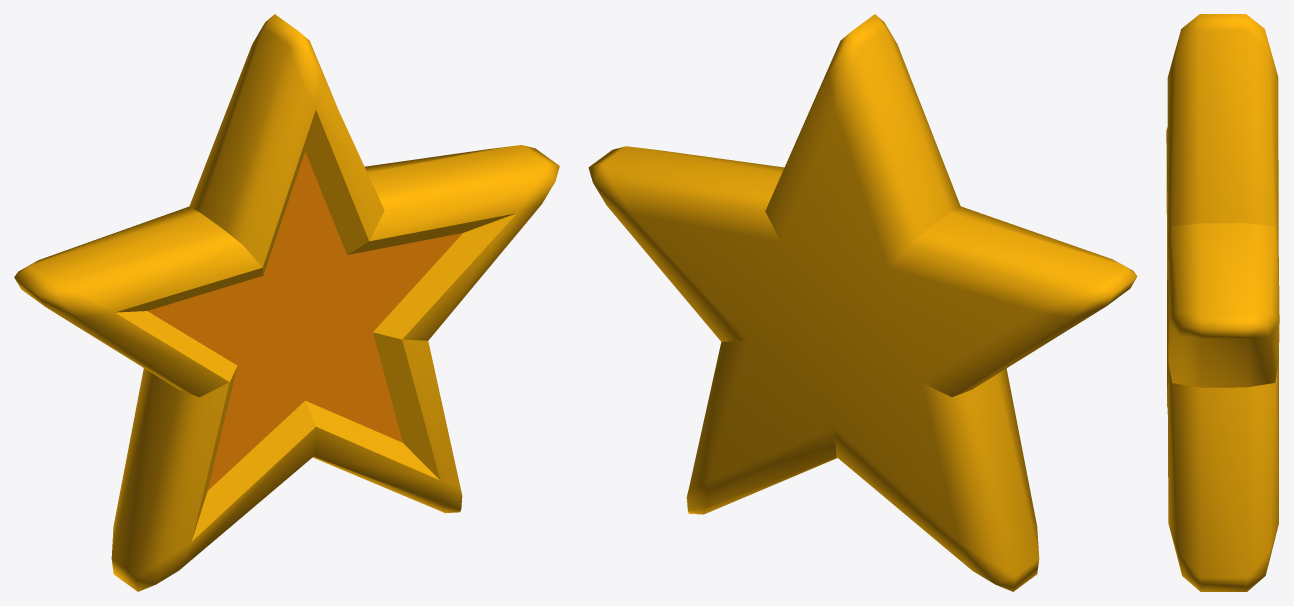
The model's file is star_001.fbx.
The picture shows the model from 3 angles, left to right: view 1: azimuth 30°, elevation 25°; view 2: azimuth 150°, elevation 25°; view 3: azimuth 270°, elevation 25°; orthographic projection. The views are drawn at different scales.
Parts seen in each view (by area): view 1: star_001; view 2: star_001; view 3: star_001.
Part boxes in pixels (<box>): star_001: <box>14,14,559,591</box>; star_001: <box>588,14,1137,591</box>; star_001: <box>1166,14,1279,591</box>.
Bounding box in the file's own units: 128 × 24.95 × 122.
